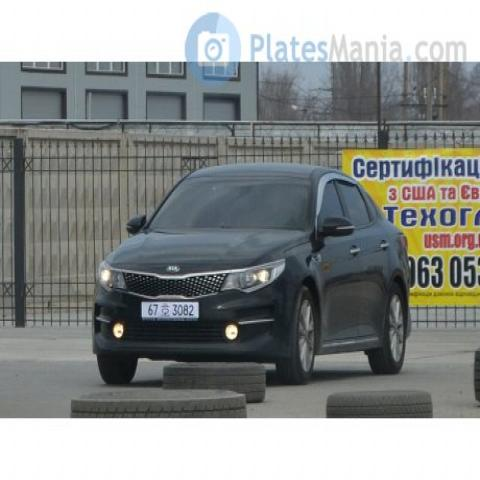LP: (132, 294, 206, 327)
